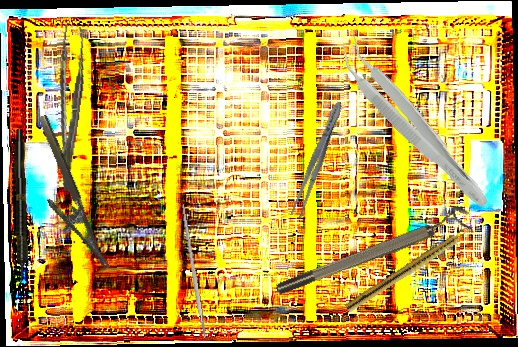Dressing Forceps: (288, 99, 347, 220)
Fixation Ring: (270, 202, 475, 299)
Handpiece: (344, 223, 476, 316), (12, 128, 29, 286)
Needle Holder: (17, 113, 110, 280)
Scalpel Handle: (179, 203, 208, 339)
Tissue Forceps: (327, 32, 502, 215), (42, 24, 93, 192)
